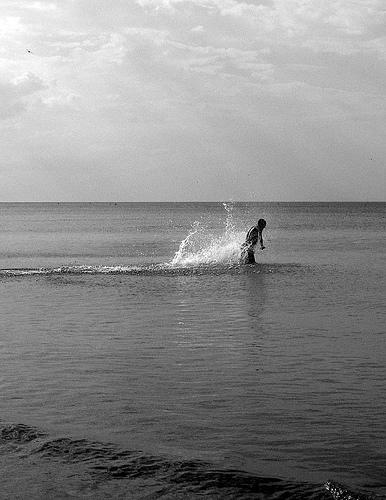human: (242, 216, 268, 260)
